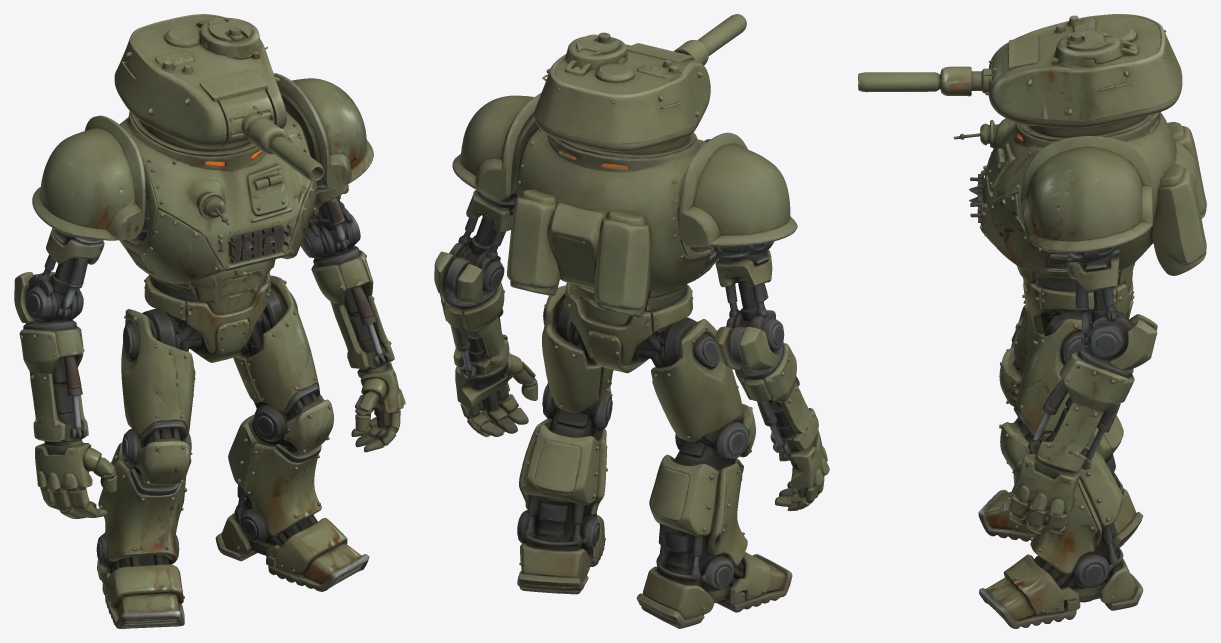
Rendered from turret-bang7.web.glb.
3 renders of one model, left to right at view 1: azimuth 30°, elevation 25°; view 2: azimuth 150°, elevation 25°; view 3: azimuth 270°, elevation 25°, orthographic.
Parts seen in each view (by area): view 1: root.1, root.0, root.3, root.2, root.4, root.5, root.6; view 2: root.0, root.1, root.2, root.3, root.4, root.5, root.6; view 3: root.0, root.1, root.2, root.5, root.6.
Part boxes in pixels (<box>): root.1: <box>96,275,369,628</box>; root.0: <box>114,14,317,362</box>; root.3: <box>14,192,149,518</box>; root.2: <box>289,112,405,452</box>; root.4: <box>32,115,145,240</box>; root.5: <box>273,73,373,190</box>; root.6: <box>241,106,324,181</box>; root.0: <box>507,32,718,373</box>; root.1: <box>517,285,792,628</box>; root.2: <box>434,128,538,437</box>; root.3: <box>691,241,829,511</box>; root.4: <box>678,132,797,247</box>; root.5: <box>452,93,541,200</box>; root.6: <box>673,14,746,65</box>; root.0: <box>954,14,1206,337</box>; root.1: <box>978,309,1143,628</box>; root.2: <box>1009,246,1157,534</box>; root.5: <box>1021,136,1153,253</box>; root.6: <box>858,65,996,96</box>.
Size of the model in its own units: 1.31 by 1.89 by 1.09.
Materials: 7 (7 with a texture image).
